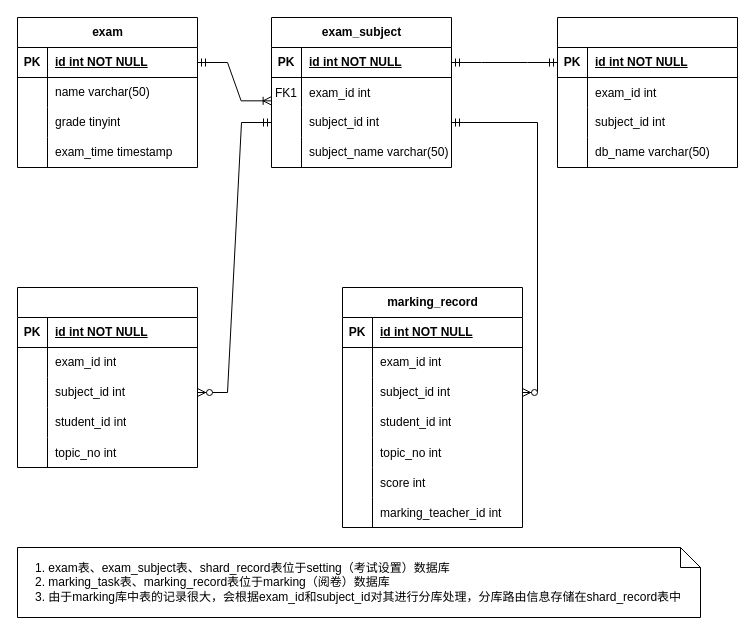
This 755x635 diagram has some shape labels left out. The box of each missing label's shape, as (x1, y1, x2, y2) in pixels:
marking_task: (16, 286, 198, 468)
shard_record: (556, 16, 738, 168)
